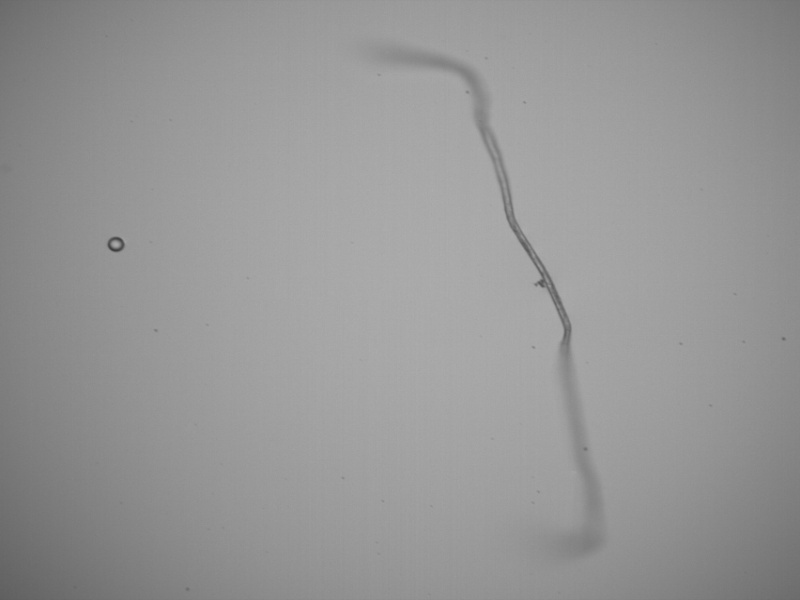bead: (106, 235, 125, 253)
fiber: (363, 45, 612, 560)
